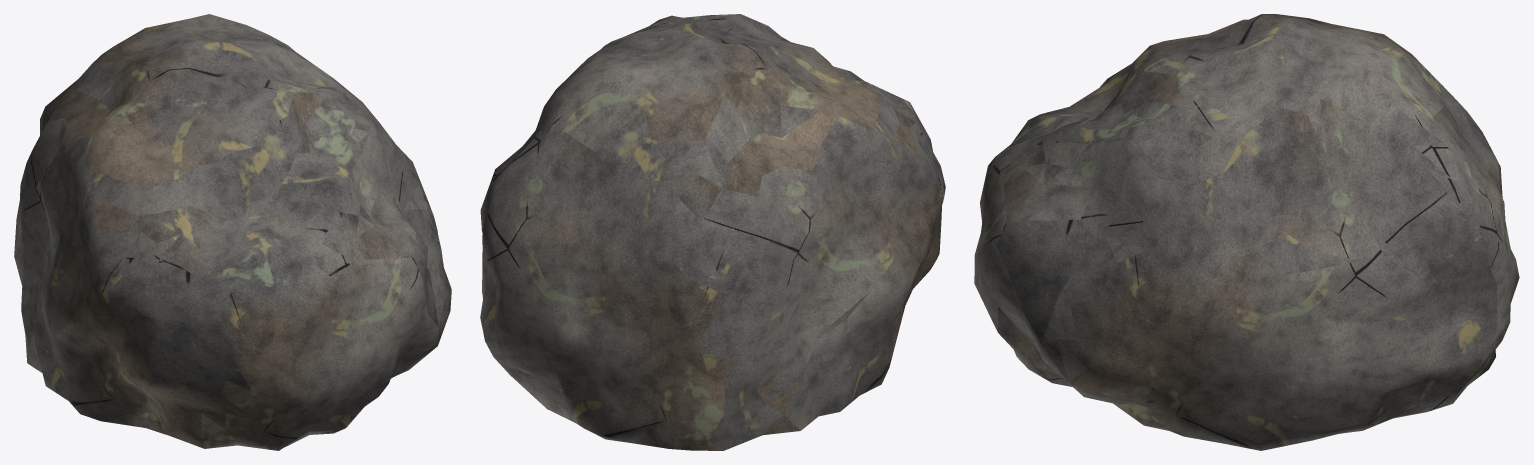
File: ENV_Forest_Rock_B.fbx
3 renders of one model, left to right at view 1: azimuth 30°, elevation 25°; view 2: azimuth 150°, elevation 25°; view 3: azimuth 270°, elevation 25°, orthographic. The views are drawn at different scales.
Parts seen in each view (by area): view 1: ENV_Forest_Rock_B; view 2: ENV_Forest_Rock_B; view 3: ENV_Forest_Rock_B.
Part boxes in pixels (x1,y1,x2,y2): ENV_Forest_Rock_B: (14, 14, 451, 450); ENV_Forest_Rock_B: (480, 14, 945, 450); ENV_Forest_Rock_B: (974, 14, 1519, 450).
Bounding box in the file's own units: 0.8232 × 0.6951 × 1.
